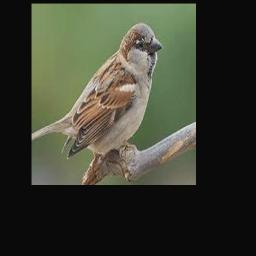Sparrow: (32, 23, 163, 160)
